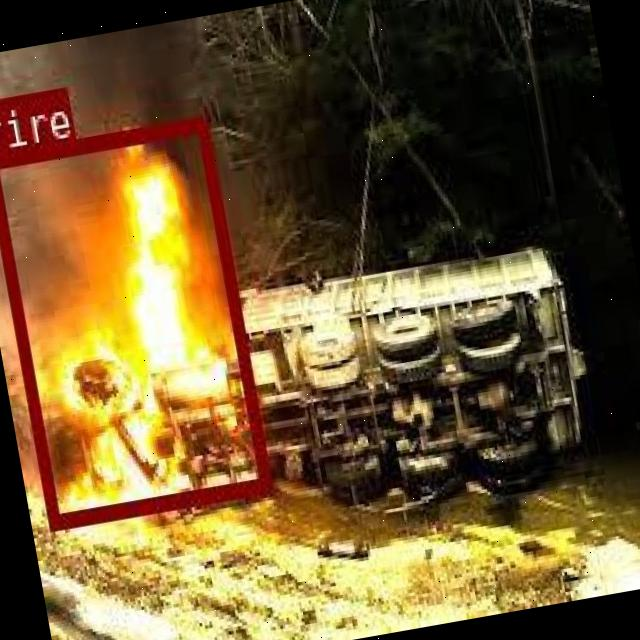fire: (0, 116, 268, 525)
